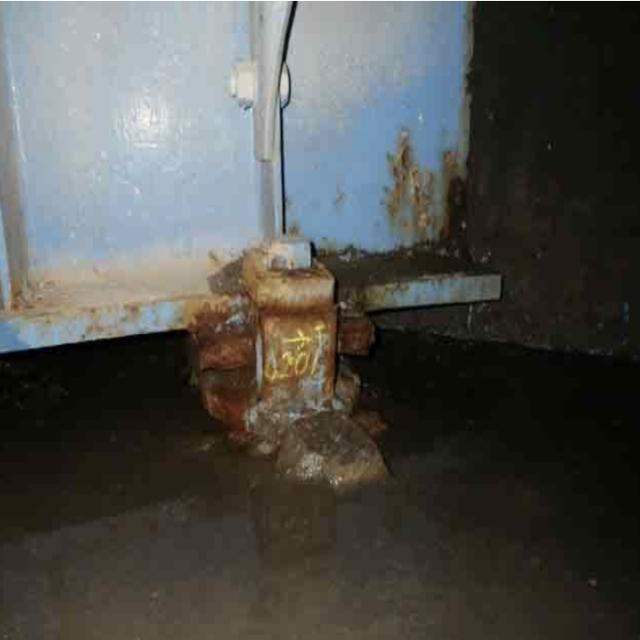corrosion: (192, 254, 378, 502)
